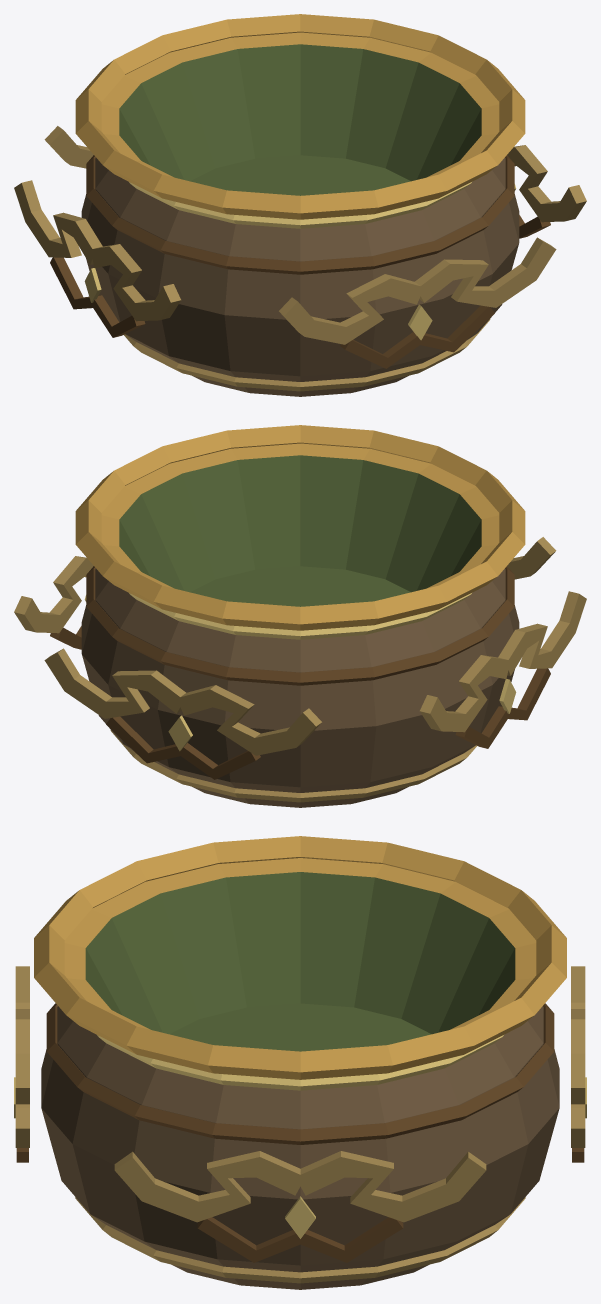
The model's file is ancient_round.obj.
3 views of the same model, one above another, from view 1: azimuth 30°, elevation 25°; view 2: azimuth 150°, elevation 25°; view 3: azimuth 270°, elevation 25° (orthographic). The views are drawn at different scales.
Visible parts, largest first — view 1: ancient_round, ancient_round_inner, ancient_mouth_band, ancient_round_rim, ancient_shoulder_band, ancient_round_hearth, ancient_lower_band, ancient_taotie_00_brow_left, ancient_taotie_00_brow_right, ancient_neck_band, ancient_taotie_03_brow_left, ancient_taotie_00_jaw (+11 smaller); view 2: ancient_round, ancient_round_inner, ancient_mouth_band, ancient_round_rim, ancient_shoulder_band, ancient_round_hearth, ancient_lower_band, ancient_taotie_02_brow_right, ancient_taotie_02_brow_left, ancient_neck_band, ancient_taotie_03_brow_right, ancient_taotie_02_jaw (+11 smaller); view 3: ancient_round, ancient_round_inner, ancient_mouth_band, ancient_round_rim, ancient_shoulder_band, ancient_round_hearth, ancient_taotie_01_brow_left, ancient_taotie_01_brow_right, ancient_lower_band, ancient_neck_band, ancient_taotie_01_jaw, ancient_taotie_01_brow_right_edge (+7 smaller).
Boxes of the visible parts, x1,y1,x2,y2 form: ancient_round: [81, 157, 519, 396]; ancient_round_inner: [119, 44, 481, 181]; ancient_mouth_band: [75, 14, 525, 219]; ancient_round_rim: [101, 32, 499, 177]; ancient_shoulder_band: [86, 155, 514, 274]; ancient_round_hearth: [190, 155, 410, 195]; ancient_lower_band: [124, 319, 490, 391]; ancient_taotie_00_brow_left: [285, 278, 423, 344]; ancient_taotie_00_brow_right: [418, 242, 556, 307]; ancient_neck_band: [129, 182, 471, 228]; ancient_taotie_03_brow_left: [14, 183, 94, 264]; ancient_taotie_00_jaw: [345, 306, 494, 368]; ancient_round: [81, 568, 519, 807]; ancient_round_inner: [119, 455, 481, 592]; ancient_mouth_band: [75, 425, 525, 630]; ancient_round_rim: [101, 443, 499, 588]; ancient_shoulder_band: [86, 566, 514, 685]; ancient_round_hearth: [190, 566, 410, 606]; ancient_lower_band: [110, 730, 476, 802]; ancient_taotie_02_brow_right: [177, 689, 315, 755]; ancient_taotie_02_brow_left: [44, 653, 183, 718]; ancient_neck_band: [129, 593, 471, 639]; ancient_taotie_03_brow_right: [506, 594, 586, 675]; ancient_taotie_02_jaw: [106, 717, 255, 779]; ancient_round: [41, 1006, 559, 1289]; ancient_round_inner: [85, 872, 515, 1034]; ancient_mouth_band: [34, 836, 566, 1079]; ancient_round_rim: [64, 858, 536, 1029]; ancient_shoulder_band: [46, 1003, 554, 1144]; ancient_round_hearth: [170, 1003, 430, 1051]; ancient_taotie_01_brow_left: [115, 1157, 305, 1222]; ancient_taotie_01_brow_right: [296, 1157, 485, 1222]; ancient_lower_band: [75, 1197, 525, 1283]; ancient_neck_band: [97, 1035, 503, 1090]; ancient_taotie_01_jaw: [198, 1219, 402, 1262]; ancient_taotie_01_brow_right_edge: [300, 1151, 486, 1202].
Size of the model in its own units: 1.39 by 0.758 by 1.39.
